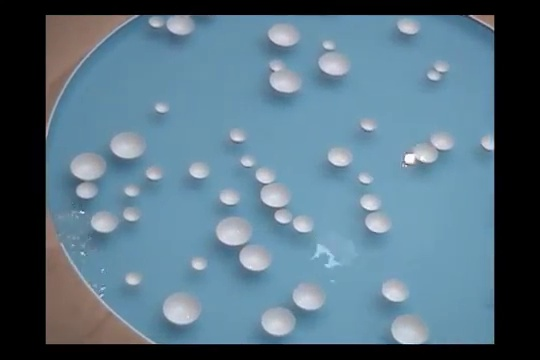bowl: (162, 291, 202, 326), (215, 215, 252, 248), (390, 313, 429, 344), (260, 305, 295, 338), (110, 130, 146, 161), (69, 152, 106, 182), (292, 281, 326, 313), (238, 243, 273, 273), (267, 23, 301, 49), (260, 182, 292, 209), (318, 51, 350, 78), (268, 70, 302, 95), (380, 277, 409, 302), (89, 210, 118, 234), (364, 211, 392, 235), (166, 15, 195, 37), (413, 141, 439, 165), (327, 145, 353, 168), (430, 132, 454, 151), (76, 181, 98, 201), (397, 17, 420, 36), (292, 214, 313, 234), (359, 193, 381, 212), (218, 187, 240, 206), (188, 161, 210, 180), (255, 165, 276, 184), (122, 205, 141, 223), (273, 208, 292, 225), (145, 165, 164, 182), (229, 127, 247, 143), (124, 271, 143, 286), (360, 118, 378, 133), (268, 58, 286, 73), (124, 183, 141, 198), (148, 14, 165, 29), (191, 255, 207, 270), (240, 153, 256, 168), (357, 171, 374, 185), (480, 134, 494, 151), (154, 101, 170, 115), (426, 68, 441, 82), (434, 60, 449, 73), (322, 39, 336, 51)
